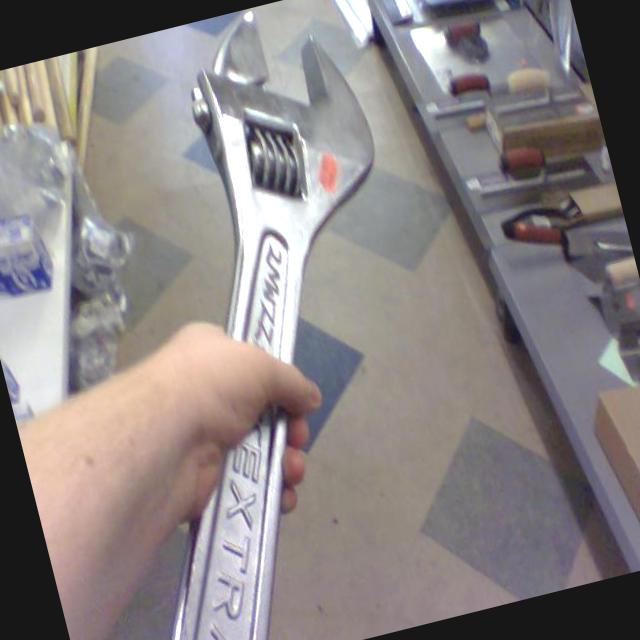wrench: (192, 12, 373, 362), (171, 408, 287, 640)
